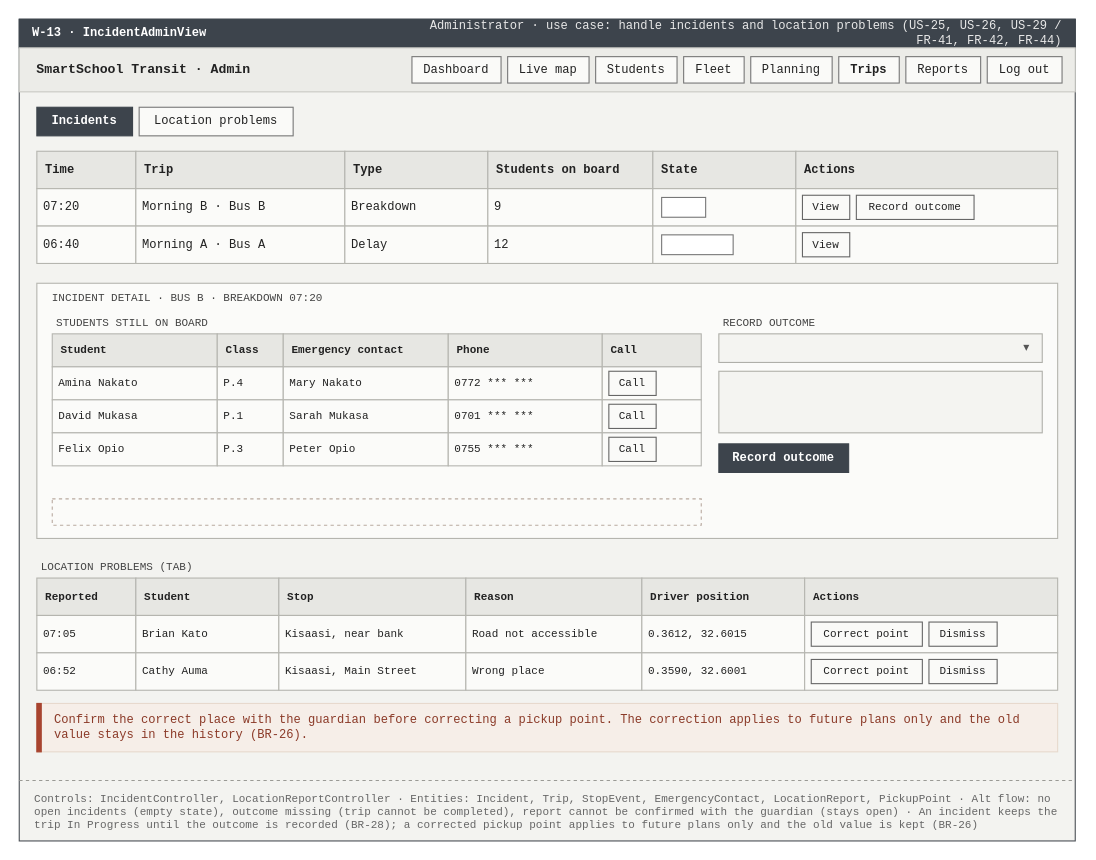
Some shapes in this 1096 by 860 pixel diagram are drawn without their labels. The box of each missing label's shape, as (x1, y1, x2, y2) in pixels:
Note…: (718, 370, 1042, 433)
Open: (661, 196, 706, 217)
Resolved: (661, 234, 733, 255)
Students moved to another bus: (718, 333, 1042, 362)
⚠ Outcome required before the trip can be completed (error slot): (51, 498, 701, 525)
